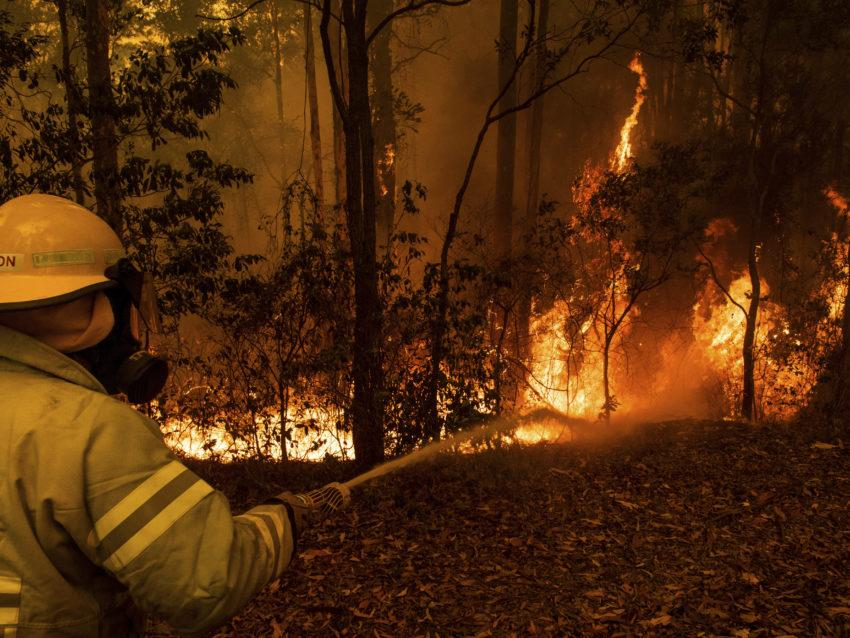fire: (456, 53, 650, 452), (697, 191, 847, 426), (146, 380, 356, 464)
